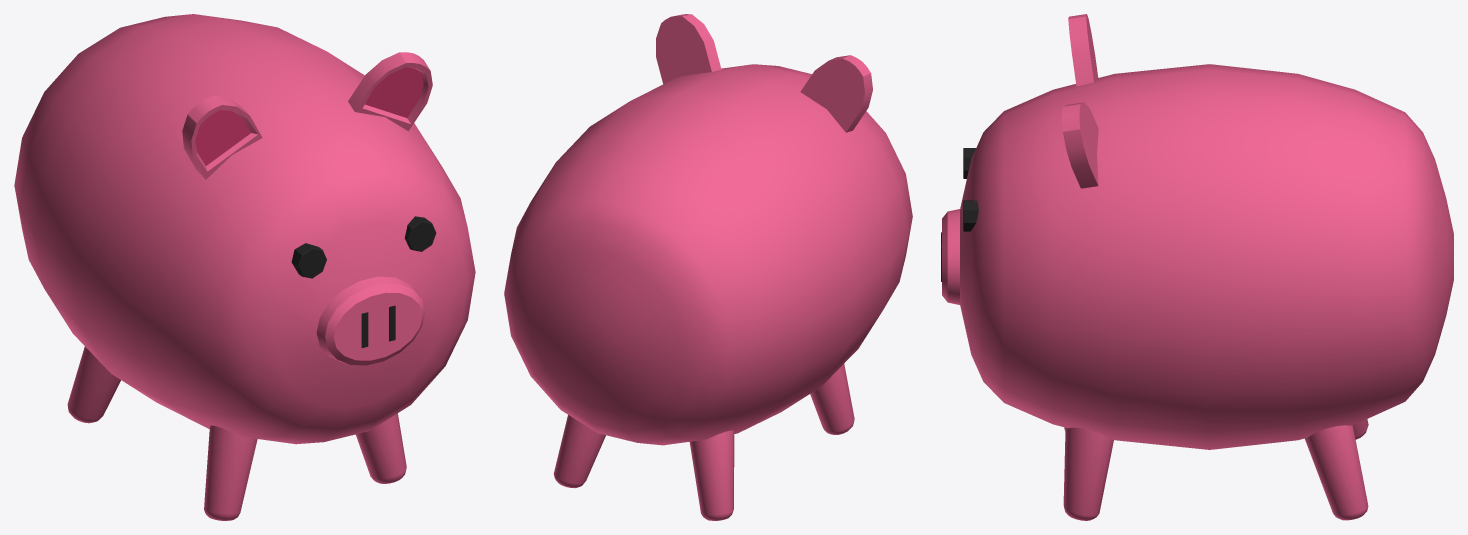
File: Pig.fbx
3 views of the same model, side by side, from view 1: azimuth 30°, elevation 25°; view 2: azimuth 150°, elevation 25°; view 3: azimuth 270°, elevation 25° (orthographic). The views are drawn at different scales.
Parts seen in each view (by area): view 1: Pig; view 2: Pig; view 3: Pig.
Part boxes in pixels (<box>): Pig: <box>14,14,475,520</box>; Pig: <box>504,14,912,520</box>; Pig: <box>941,14,1453,520</box>.
Bounding box in the file's own units: 17 × 20.33 × 22.51.
Materials: 1 (1 with a texture image).
